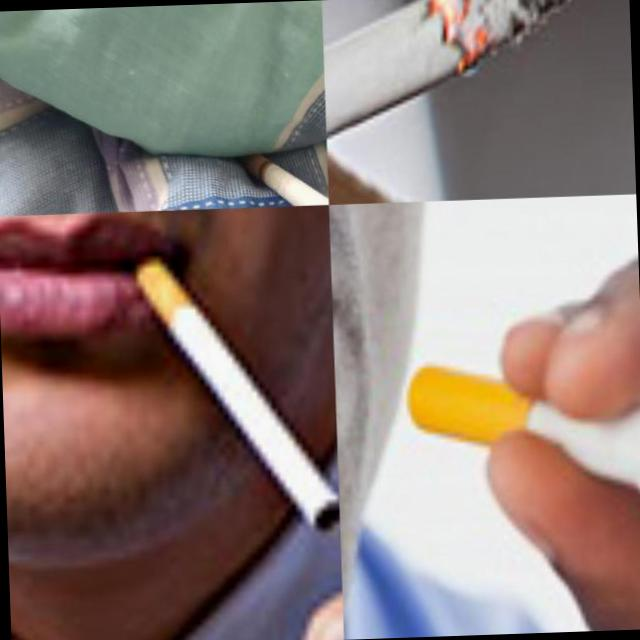smoke: (118, 230, 339, 540), (321, 0, 587, 203), (403, 354, 640, 553), (235, 148, 328, 207)
